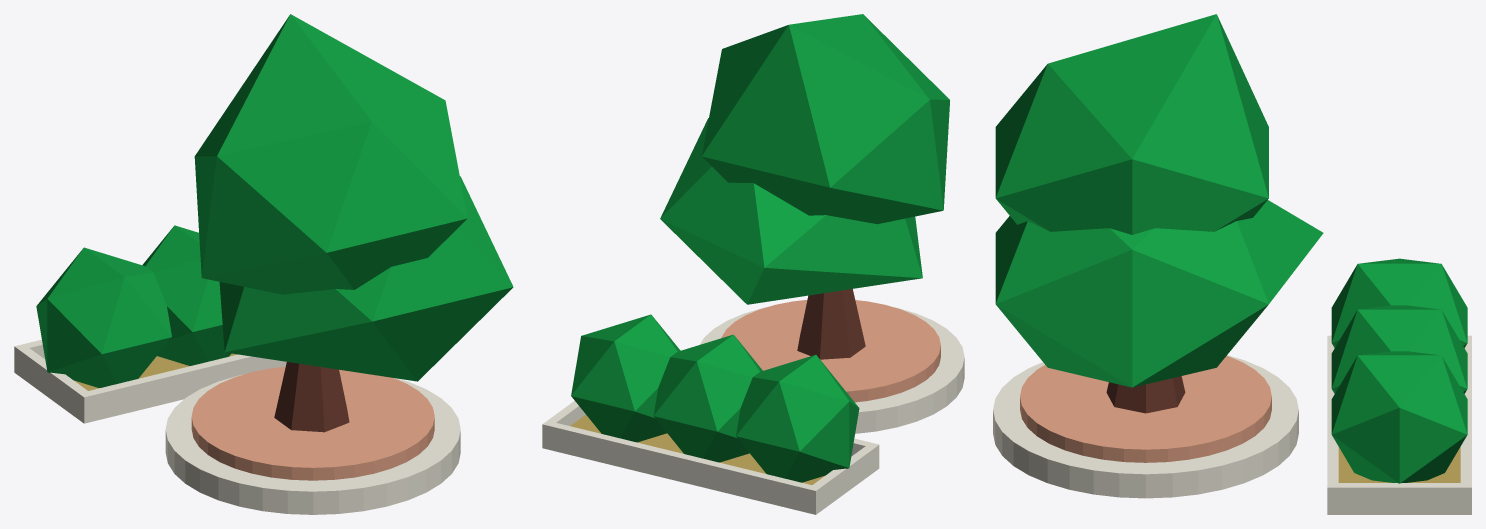
Rendered from 建筑物4.fbx.
The picture shows the model from 3 angles, left to right: view 1: azimuth 30°, elevation 25°; view 2: azimuth 150°, elevation 25°; view 3: azimuth 270°, elevation 25°; orthographic projection. The views are drawn at different scales.
Visible parts, largest first — view 1: 左树1_1; view 2: 左树1_1; view 3: 左树1_1.
Part boxes in pixels (x1,y1,x2,y2): 左树1_1: [14, 14, 513, 514]; 左树1_1: [542, 14, 964, 514]; 左树1_1: [993, 14, 1471, 514].
Bounding box in the file's own units: 660 × 824 × 839.
